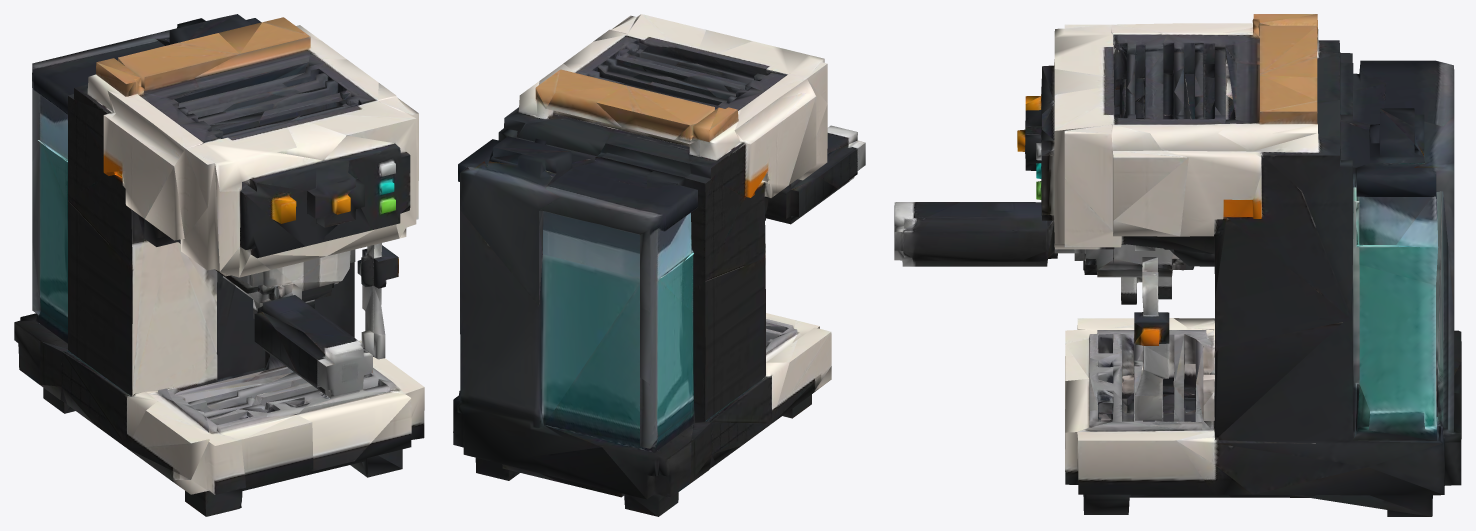
Rendered from espresso_machine.glb.
The picture shows the model from 3 angles, left to right: view 1: azimuth 30°, elevation 25°; view 2: azimuth 150°, elevation 25°; view 3: azimuth 270°, elevation 25°; orthographic projection. The views are drawn at different scales.
Bounding box in the file's own units: 1.04 × 1.56 × 2.
Materials: 1 (1 with a texture image).
